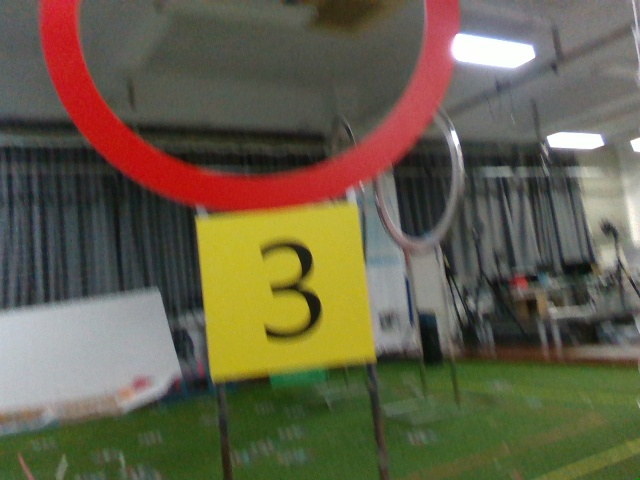target: (207, 225, 360, 362)
